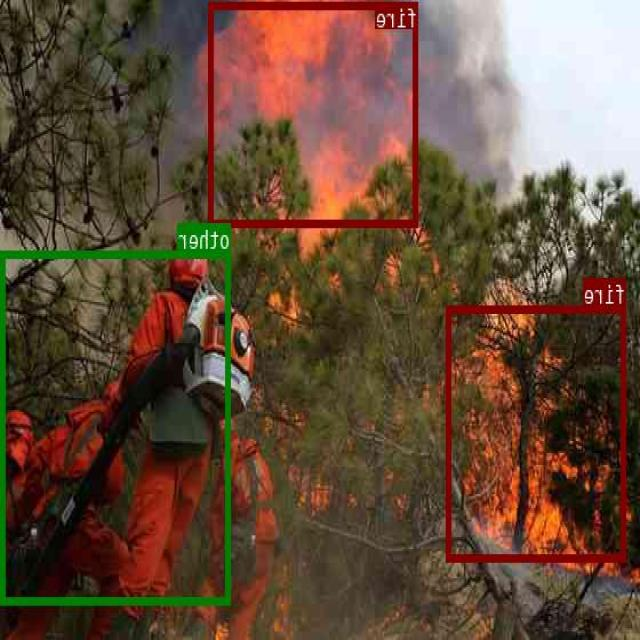fire: (210, 1, 418, 226), (447, 305, 627, 561)
other: (2, 250, 232, 602)
